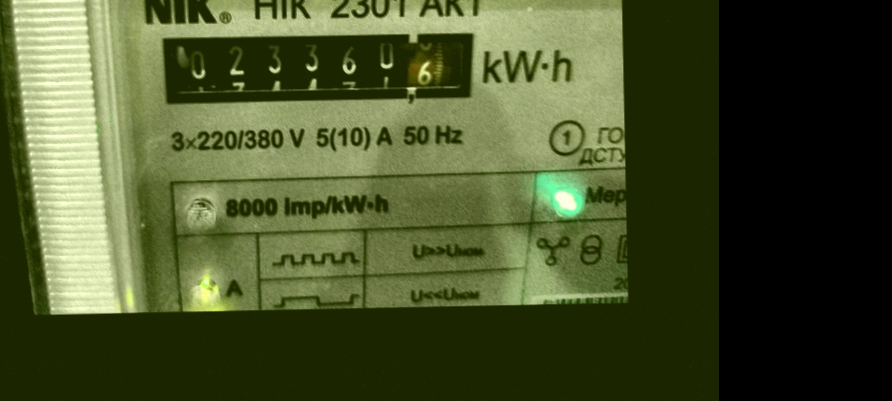0: (185, 46, 207, 79), (376, 38, 394, 69)
2: (223, 42, 247, 76)
3: (261, 41, 283, 74), (300, 39, 320, 71)
6: (336, 42, 357, 74), (412, 55, 433, 85)
screen: (143, 13, 487, 118)
